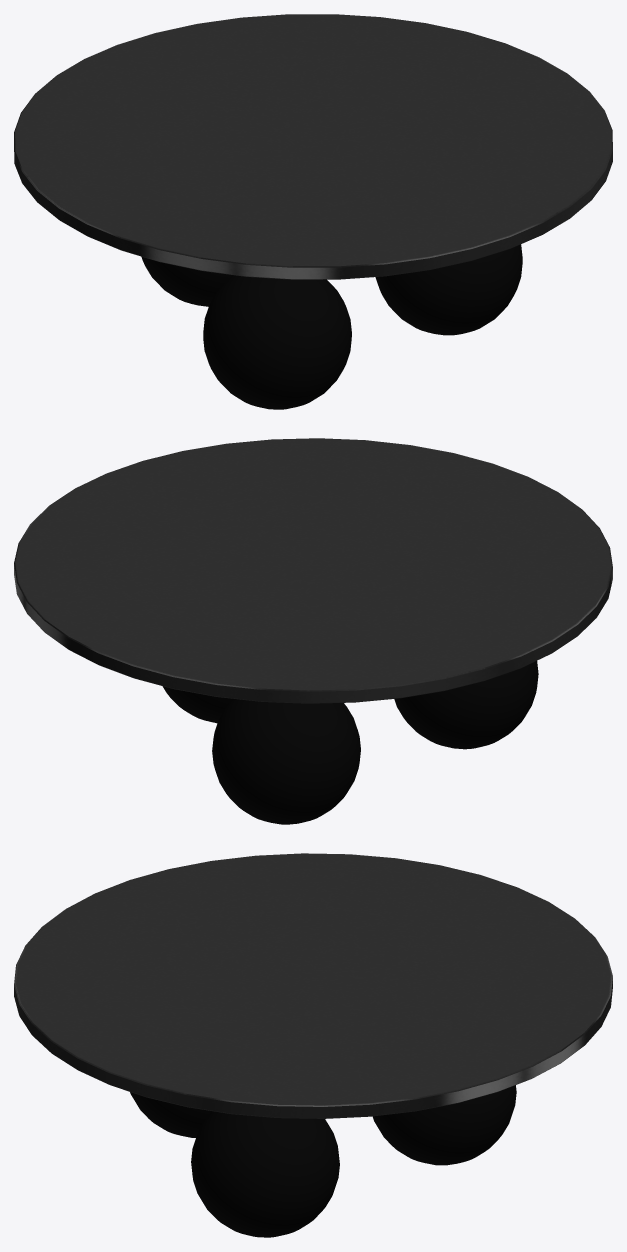
File: raw_model.obj
The picture shows the model from 3 angles, top to bottom: view 1: azimuth 30°, elevation 25°; view 2: azimuth 150°, elevation 25°; view 3: azimuth 270°, elevation 25°; orthographic projection.
Visible parts, largest first — view 1: solid_001, solid_002; view 2: solid_001, solid_002; view 3: solid_001, solid_002.
Part boxes in pixels (left/top/right/bottom): solid_001: left=14, top=14, right=612, bottom=279; solid_002: left=141, top=244, right=522, bottom=409; solid_001: left=14, top=438, right=612, bottom=703; solid_002: left=162, top=661, right=538, bottom=824; solid_001: left=14, top=853, right=612, bottom=1118; solid_002: left=130, top=1085, right=516, bottom=1237.
Size of the model in its own units: 0.588 by 0.2137 by 0.588.
1 material, 1 textured.
